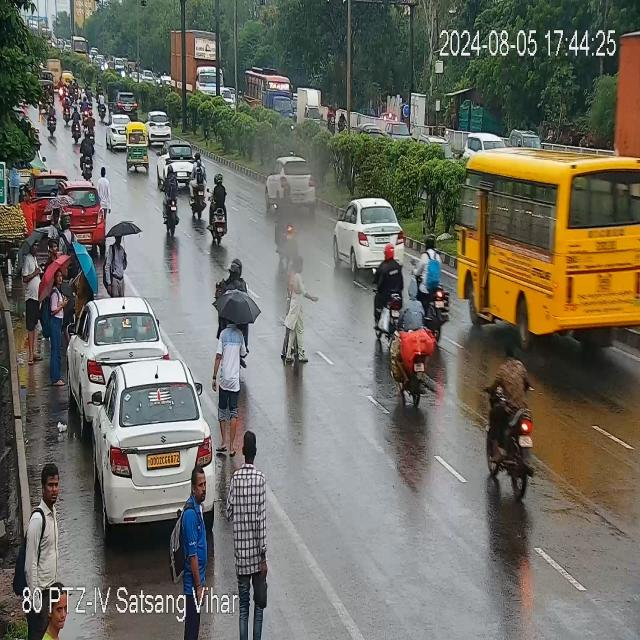2-wheelers: (482, 341, 532, 491), (42, 93, 106, 170), (394, 296, 433, 406), (369, 250, 406, 336), (421, 230, 446, 328), (156, 169, 182, 236), (206, 177, 231, 242), (274, 186, 296, 253), (221, 259, 247, 306), (188, 163, 210, 216)
auto: (125, 130, 152, 172)
bus: (454, 138, 640, 340), (245, 66, 303, 117)
car: (77, 358, 219, 530), (70, 298, 170, 395), (334, 199, 402, 268), (60, 185, 107, 241), (266, 154, 313, 208), (162, 140, 204, 176), (144, 111, 174, 142), (104, 116, 128, 150)
pedestrian: (227, 432, 289, 640), (28, 465, 81, 640), (274, 216, 319, 384), (171, 474, 207, 640), (19, 236, 47, 377), (213, 332, 253, 425), (46, 261, 73, 371), (101, 223, 129, 297), (23, 186, 39, 232)
truck: (164, 30, 236, 104)
